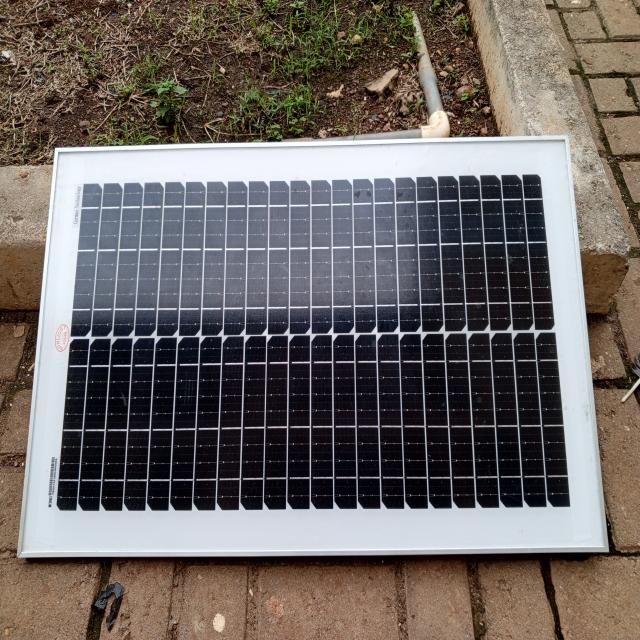Clean: (67, 166, 579, 522)
